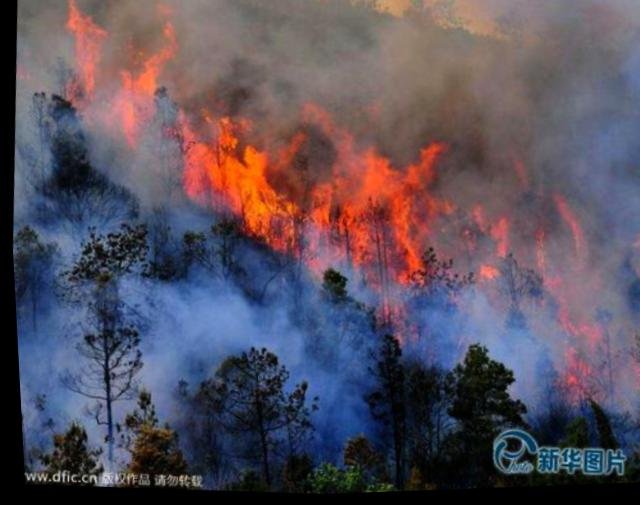fire: (42, 0, 629, 399)
